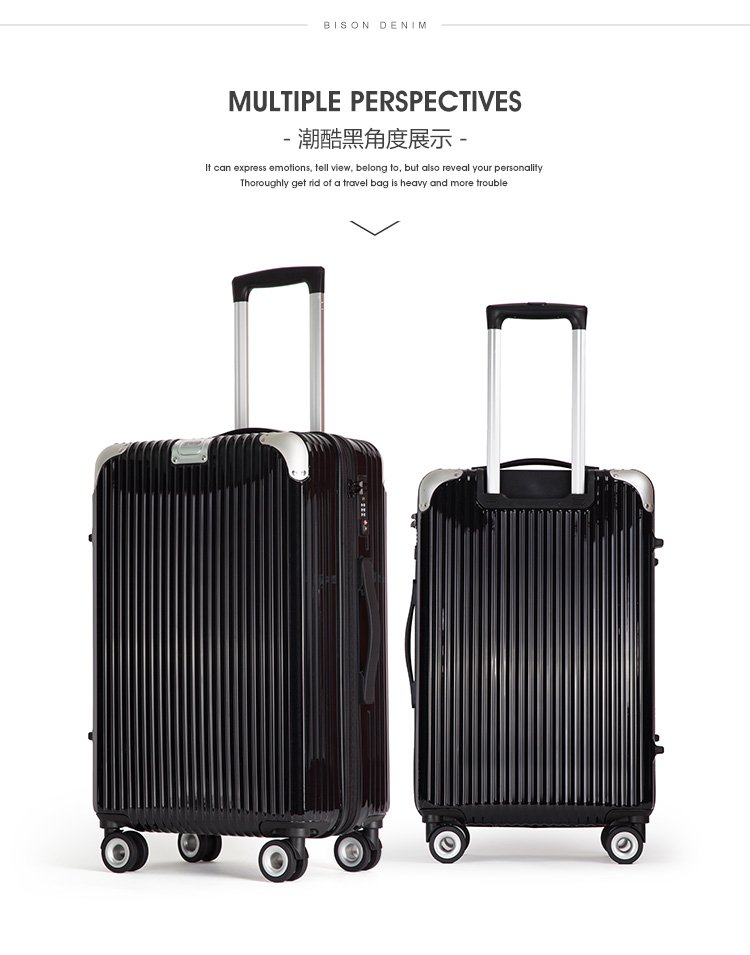luggage: (88, 264, 391, 883), (404, 302, 665, 864)
